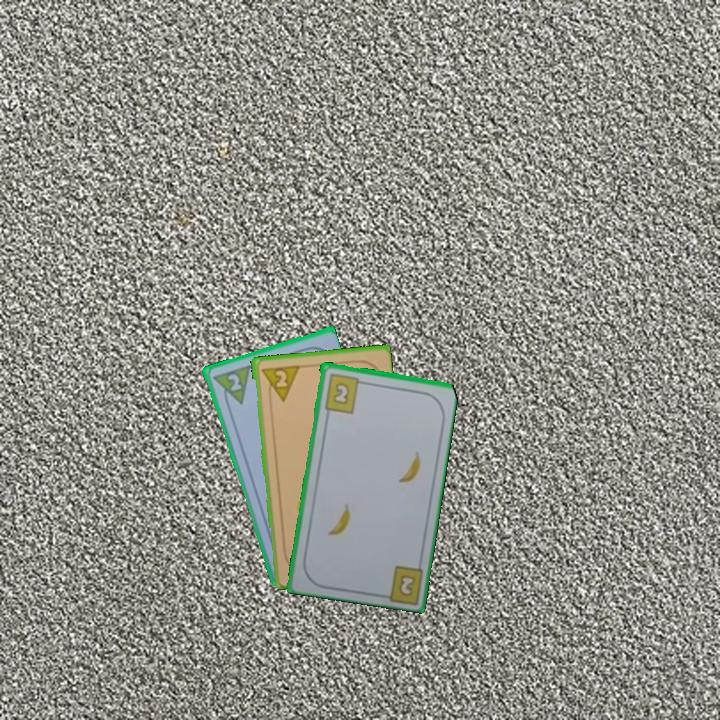2b: (321, 370, 367, 415), (395, 571, 418, 599)
2p: (208, 362, 253, 410), (257, 361, 301, 405)
